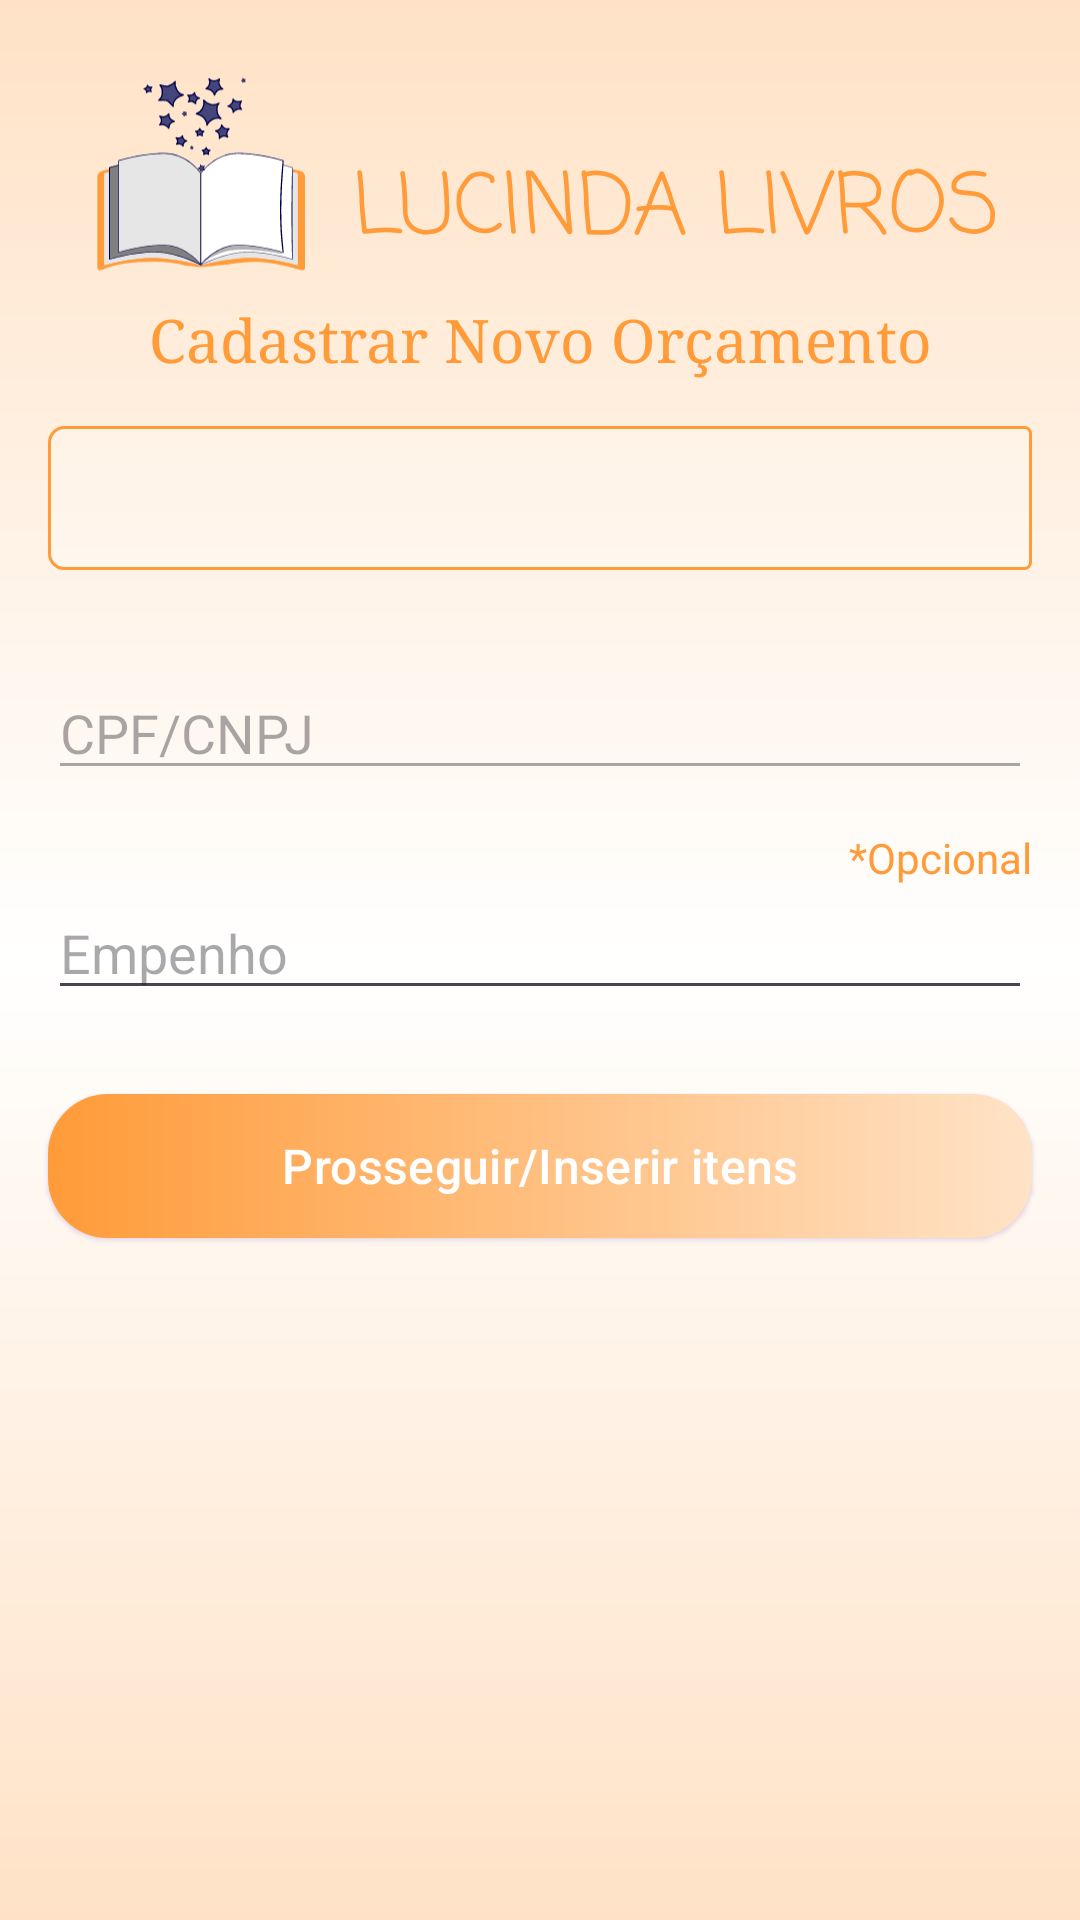

Icon click points for this 1080x1920 phone screenshot, format (x=x, y=y):
book: (x=201, y=174)
